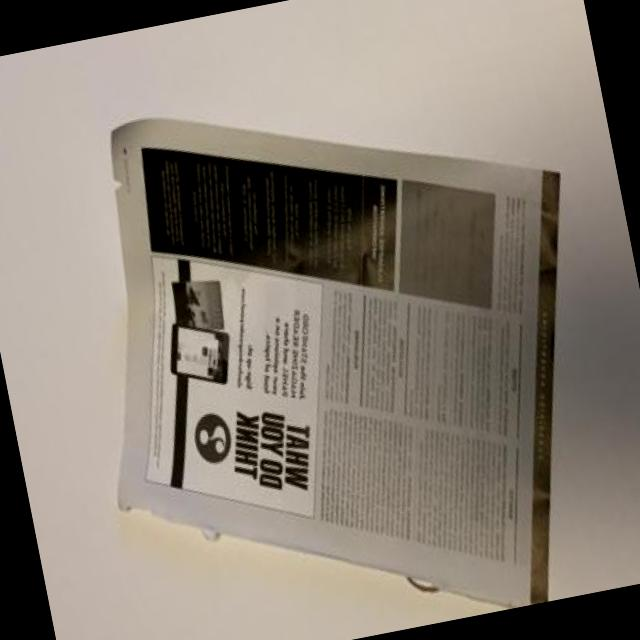giay: (109, 113, 561, 610)
